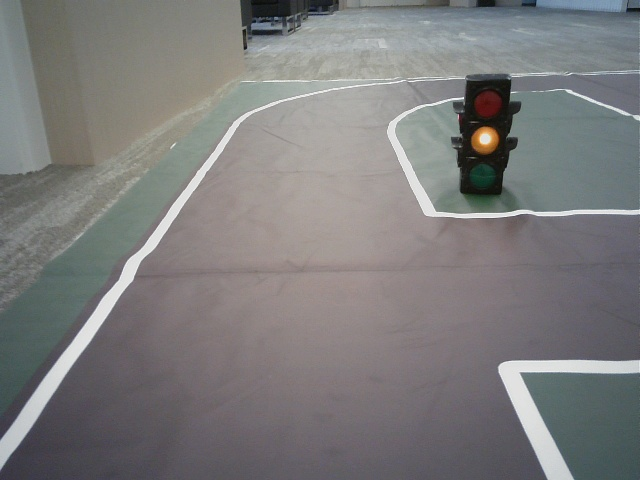yellow: (463, 83, 504, 187)
